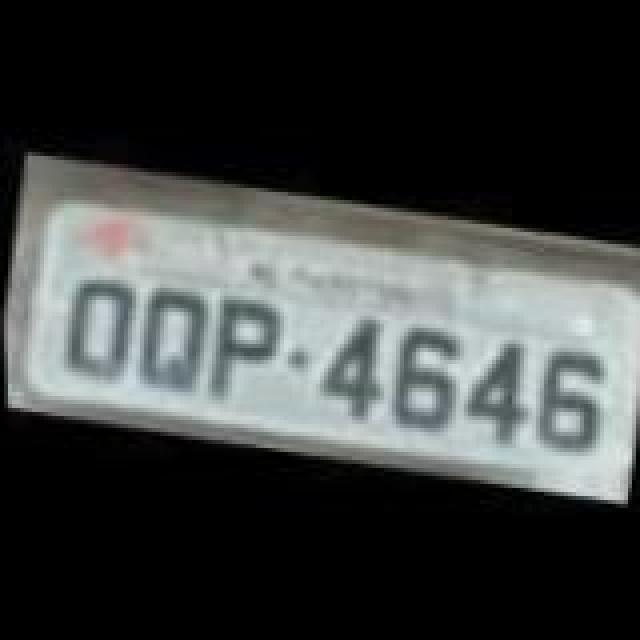4: (304, 302, 392, 426), (454, 324, 538, 444)
6: (520, 336, 608, 460), (376, 316, 464, 436)
O: (50, 260, 138, 384)
P: (200, 284, 284, 404)
Q: (126, 276, 214, 396)
